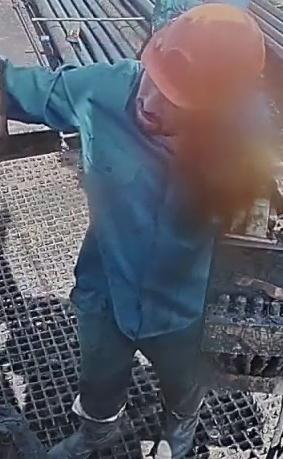helmet: (140, 2, 266, 109)
vest: (78, 54, 234, 341)
